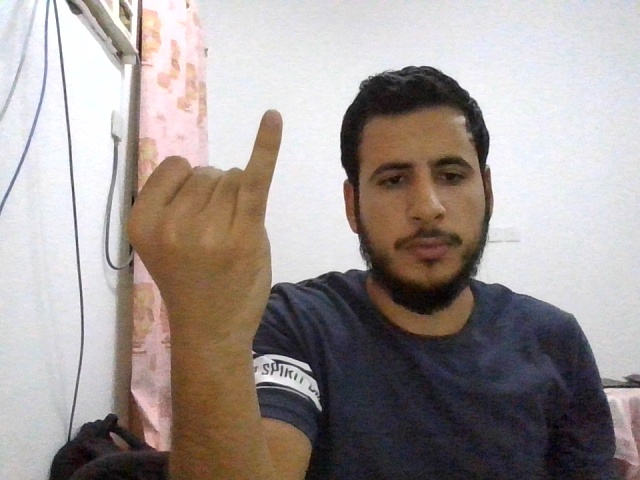One: (128, 108, 284, 317)
